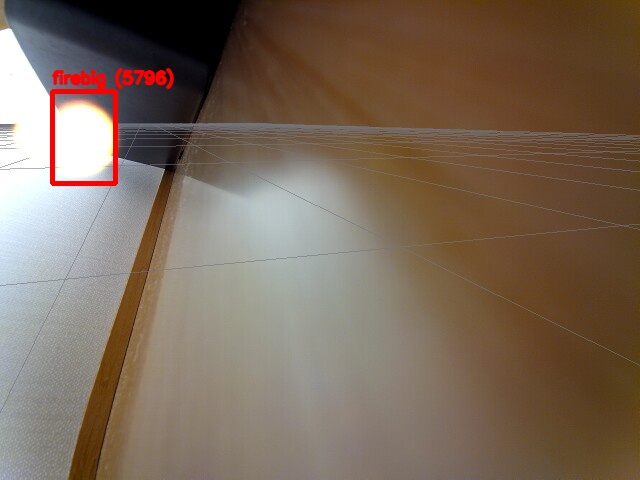firebig: (52, 91, 115, 183)
